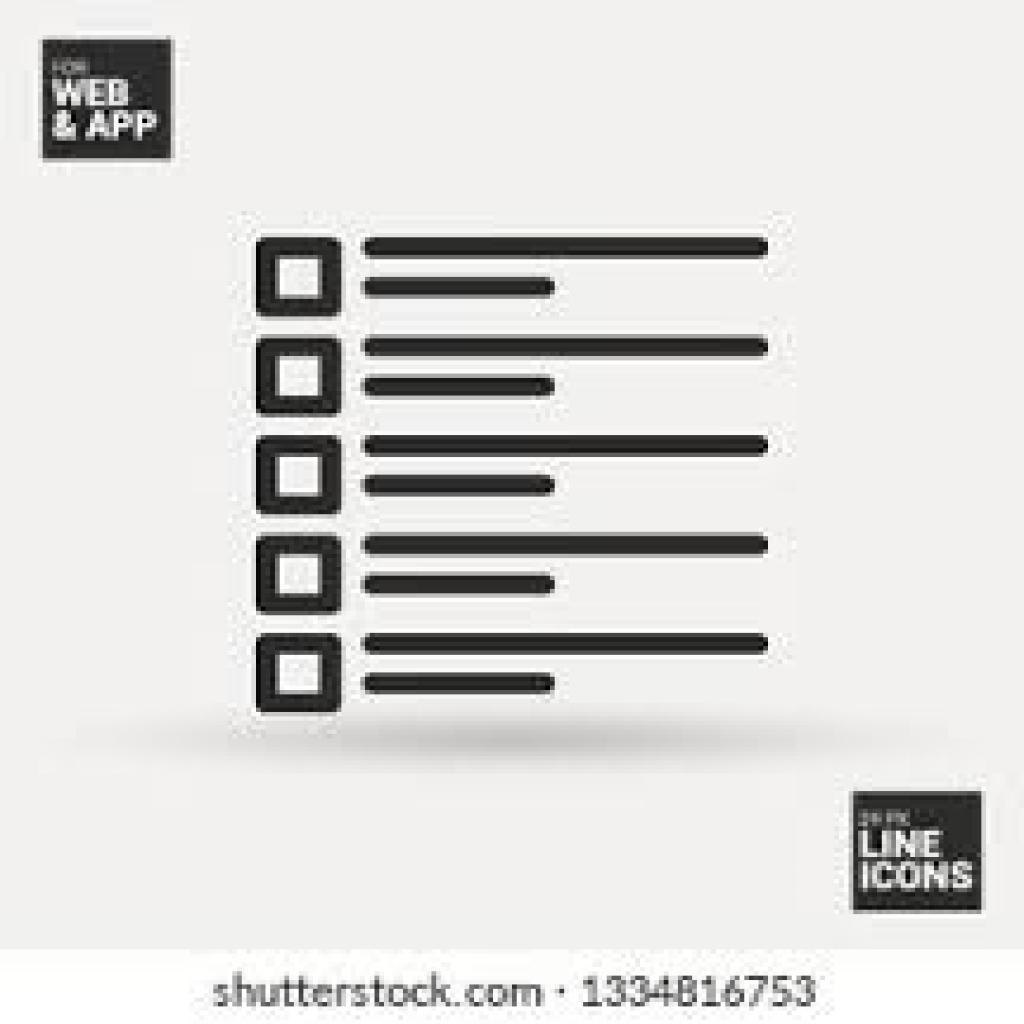checkbox: (258, 241, 341, 317), (265, 435, 341, 510), (263, 344, 337, 417), (267, 541, 338, 616), (270, 639, 340, 713)
